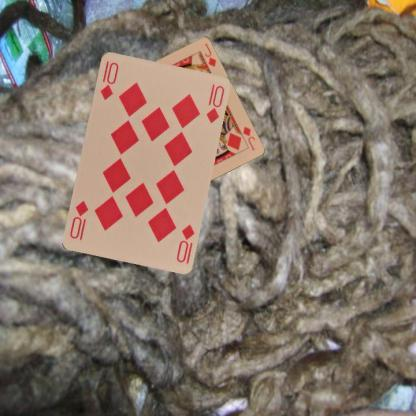10d: (97, 58, 120, 101), (173, 221, 196, 264)
Jd: (240, 124, 256, 151)
